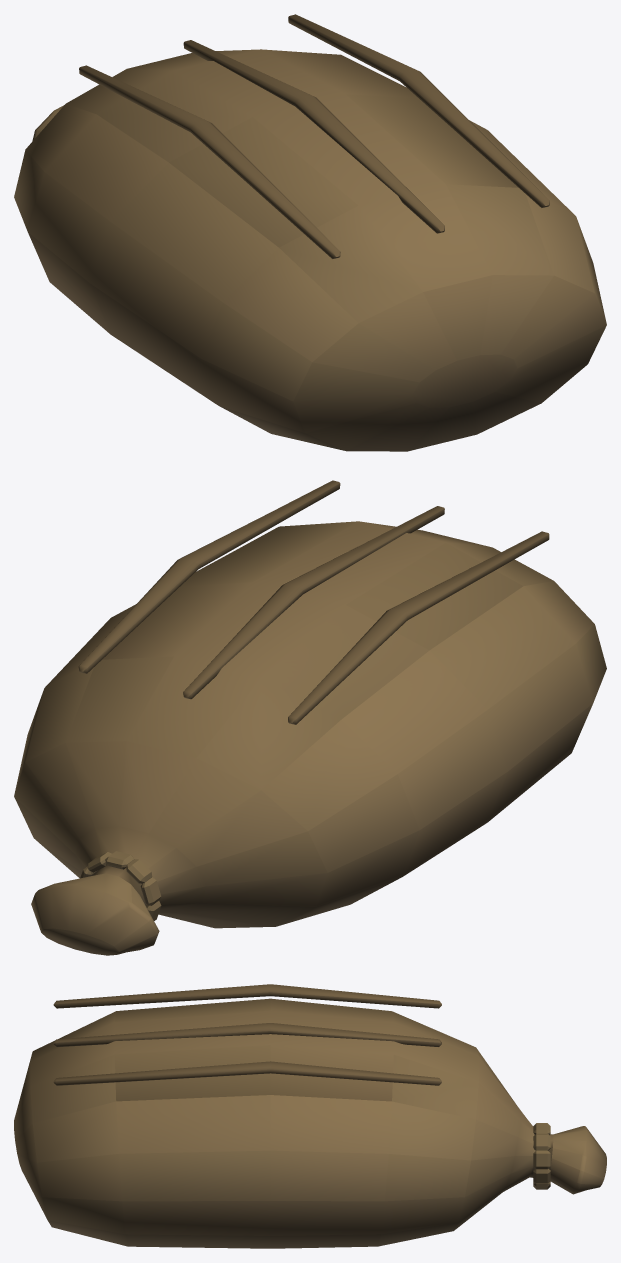
File: sack.glb
3 views of the same model, one above another, from view 1: azimuth 30°, elevation 25°; view 2: azimuth 150°, elevation 25°; view 3: azimuth 270°, elevation 25° (orthographic). The views are drawn at different scales.
Visible parts, largest first — view 1: cloth-001; view 2: cloth-001; view 3: cloth-001.
Boxes of the visible parts, x1,y1,x2,y2 form: cloth-001: [14, 14, 606, 451]; cloth-001: [14, 480, 606, 955]; cloth-001: [14, 984, 606, 1248].
Size of the model in its own units: 0.64 by 0.3802 by 1.04.
